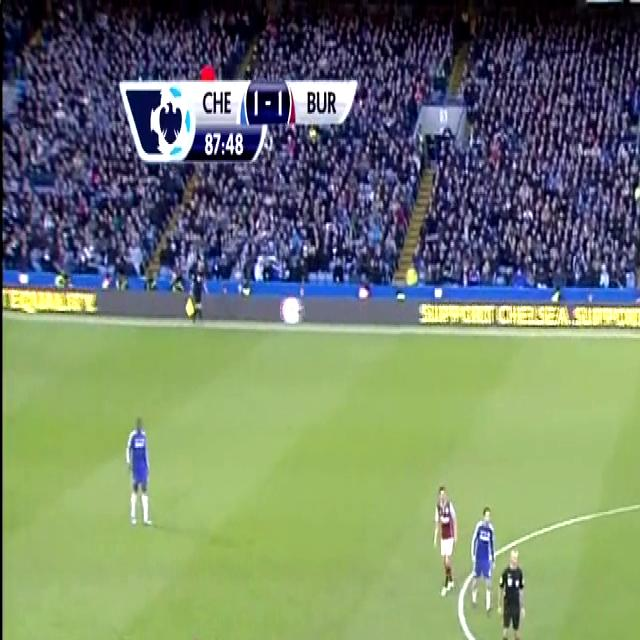ball: (637, 586, 640, 636)
referee: (494, 540, 528, 640), (184, 247, 211, 323)
soccer-player: (120, 404, 159, 531), (464, 494, 502, 617), (428, 471, 461, 600), (164, 626, 216, 640)
